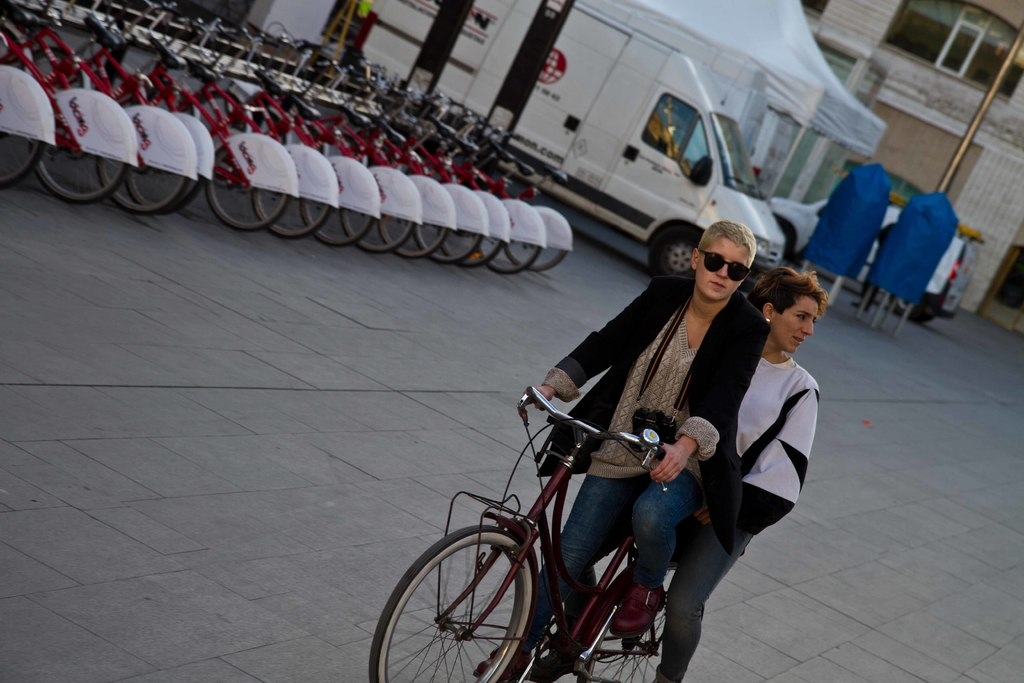Bike: (367, 383, 712, 679)
